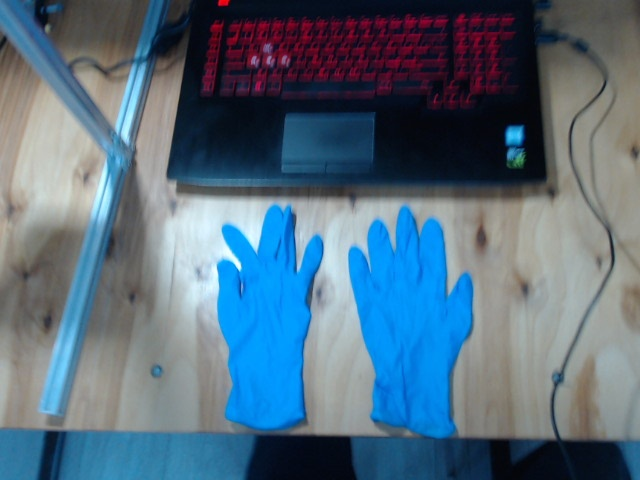medical_glove: (349, 206, 473, 438), (218, 205, 323, 431)
